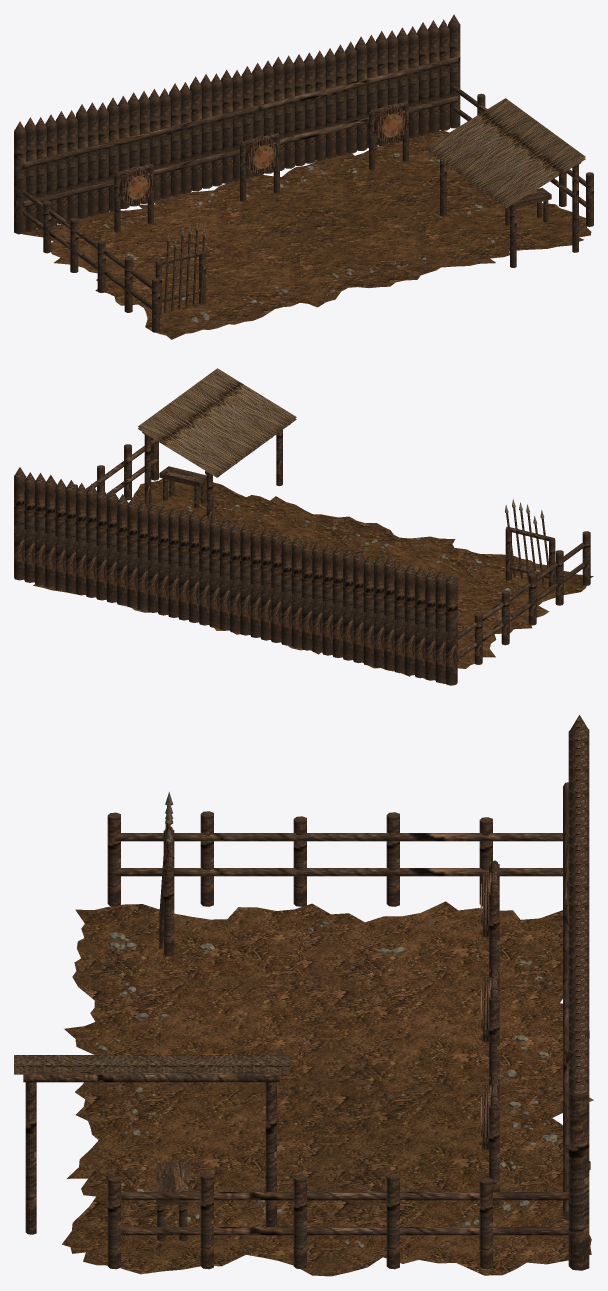
Rendered from archery@1.glb.
3 views of the same model, one above another, from view 1: azimuth 30°, elevation 25°; view 2: azimuth 150°, elevation 25°; view 3: azimuth 270°, elevation 25° (orthographic). The views are drawn at different scales.
Visible parts, largest first — view 1: part_2, part_0, part_7, part_3, part_4, part_1; view 2: part_2, part_0, part_7; view 3: part_0, part_2, part_7, part_1, part_3.
Boxes of the visible parts, left/top/right/bottom form: part_2: left=14, top=14, right=593, bottom=332; part_0: left=23, top=130, right=591, bottom=339; part_7: left=426, top=98, right=585, bottom=207; part_3: left=119, top=104, right=408, bottom=204; part_4: left=127, top=114, right=403, bottom=199; part_1: left=103, top=153, right=519, bottom=322; part_2: left=14, top=424, right=590, bottom=685; part_0: left=33, top=478, right=593, bottom=683; part_7: left=138, top=368, right=296, bottom=477; part_0: left=62, top=901, right=593, bottom=1276; part_2: left=23, top=715, right=589, bottom=1270; part_7: left=14, top=1055, right=288, bottom=1074; part_1: left=95, top=921, right=557, bottom=1248; part_3: left=482, top=872, right=497, bottom=1149.
Size of the model in its own units: 7.59 by 1.85 by 4.96.
Materials: 8 (7 with a texture image).
